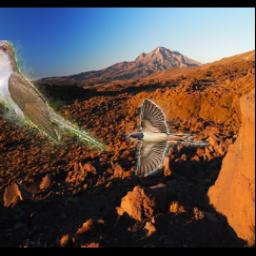Cuckoo: (0, 40, 112, 153)
Swallow: (126, 98, 210, 175)
